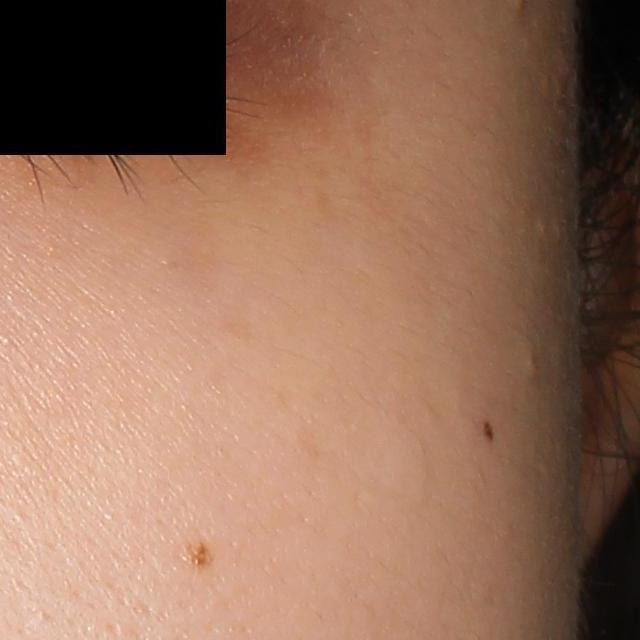nevus: (181, 532, 217, 572), (479, 416, 495, 450)
